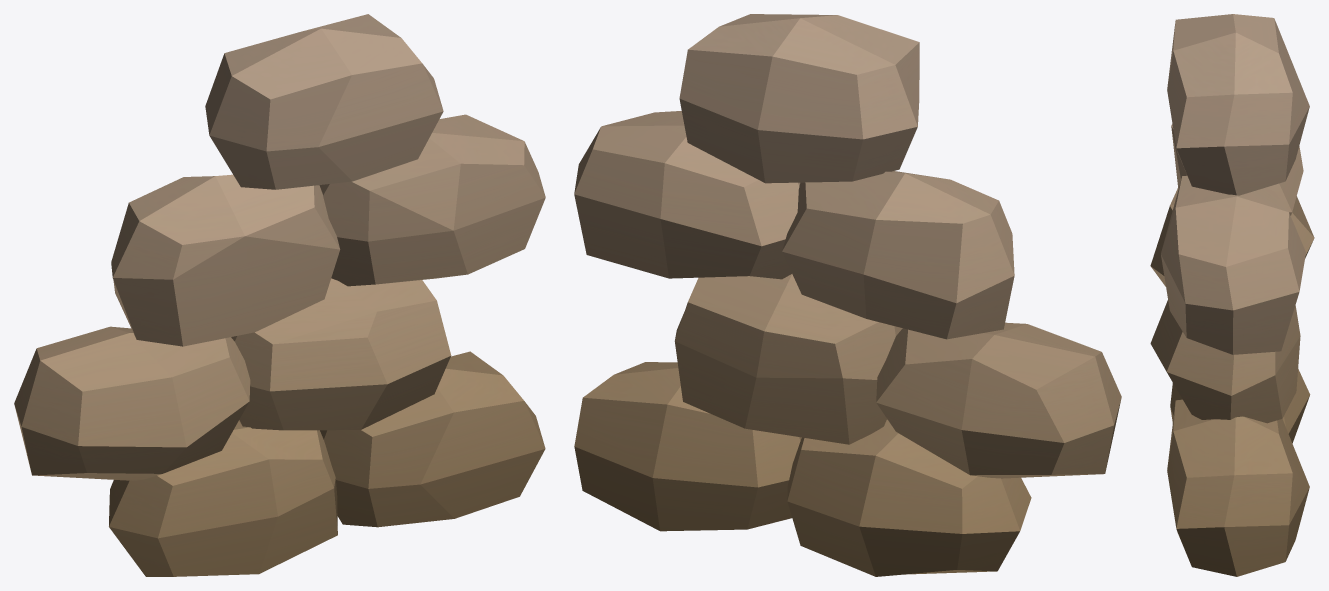
The model's file is SobbleStoneWall_04.fbx.
3 views of the same model, side by side, from view 1: azimuth 30°, elevation 25°; view 2: azimuth 150°, elevation 25°; view 3: azimuth 270°, elevation 25° (orthographic). The views are drawn at different scales.
Visible parts, largest first — view 1: SobbleStoneWall_04; view 2: SobbleStoneWall_04; view 3: SobbleStoneWall_04.
Part boxes in pixels (x1=…): SobbleStoneWall_04: x1=14, y1=14, x2=545, y2=576; SobbleStoneWall_04: x1=574, y1=14, x2=1121, y2=576; SobbleStoneWall_04: x1=1150, y1=14, x2=1314, y2=576.
Bounding box in the file's own units: 191 × 183 × 56.6.
